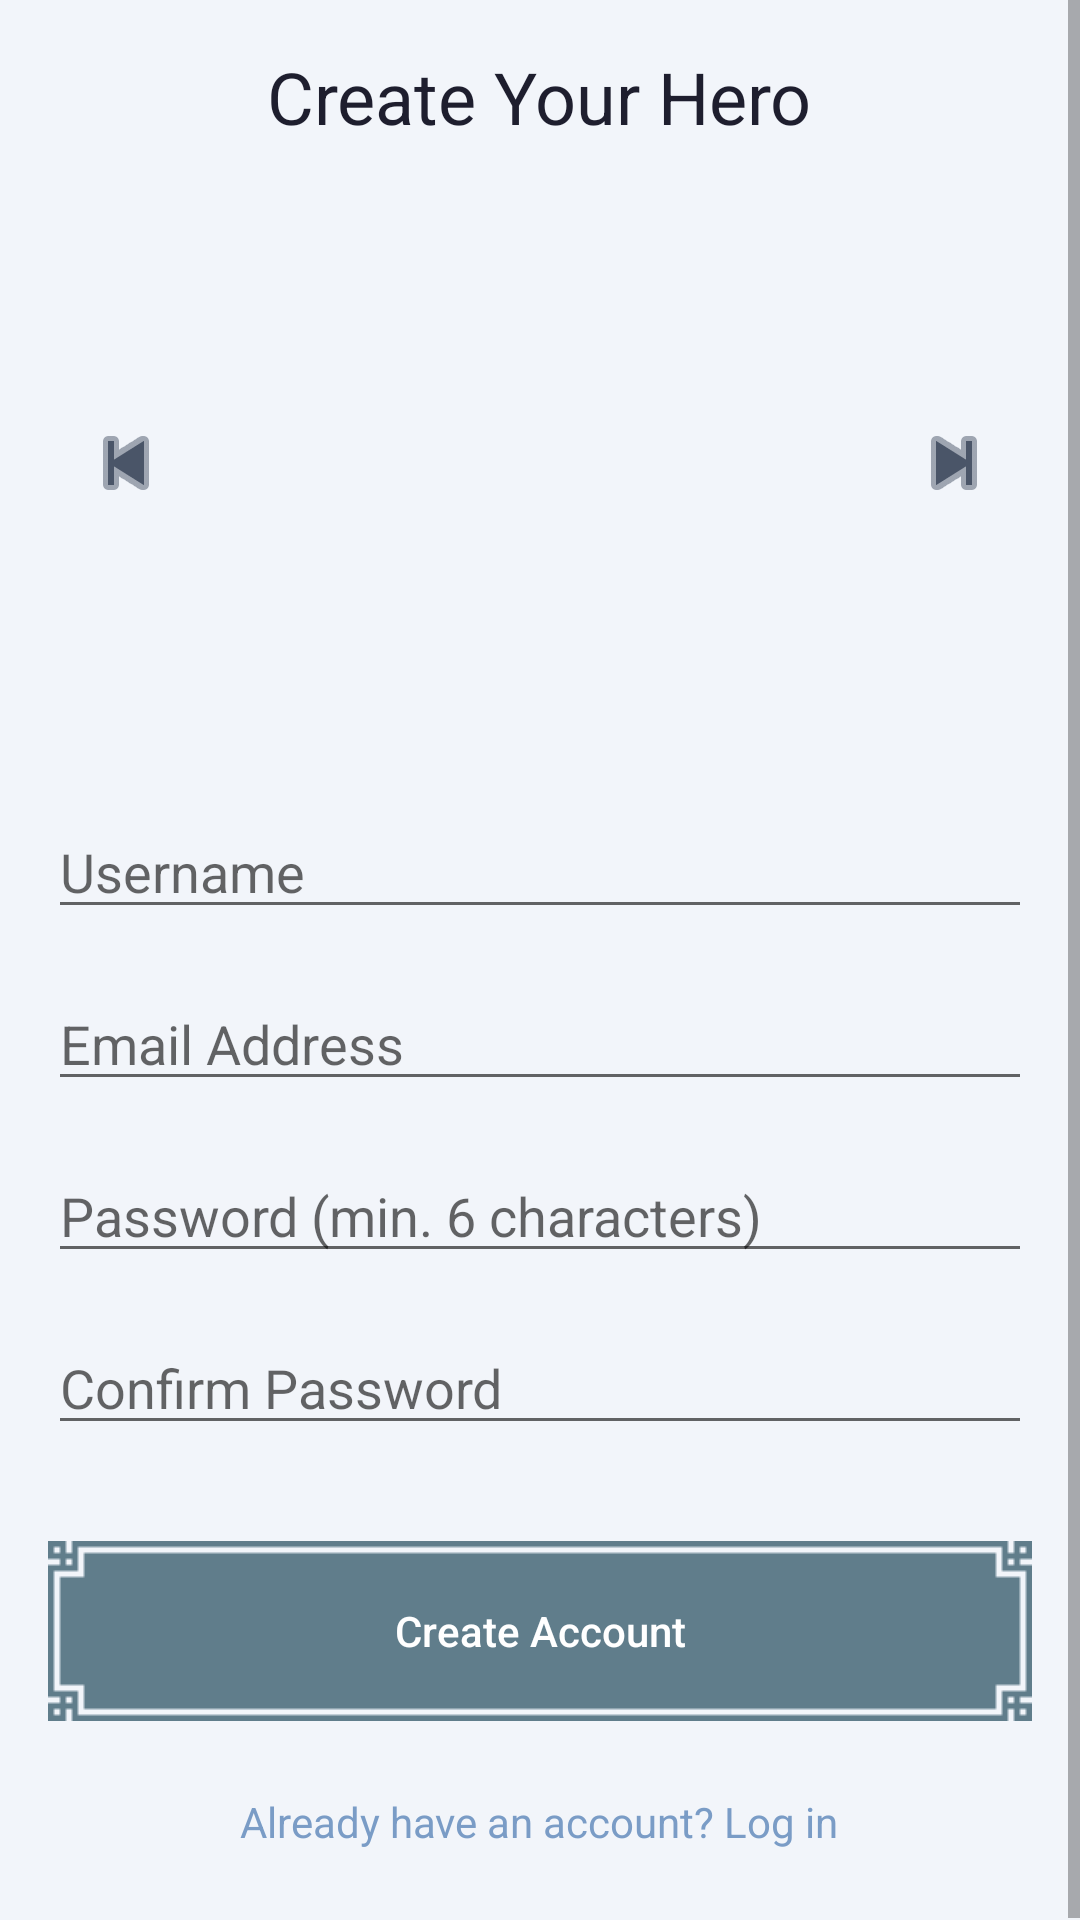

Icons on this 1080x1920 Android screen, each with the point to tap as [x,y]:
Next Avatar: [954,463]
Previous Avatar: [126,463]
